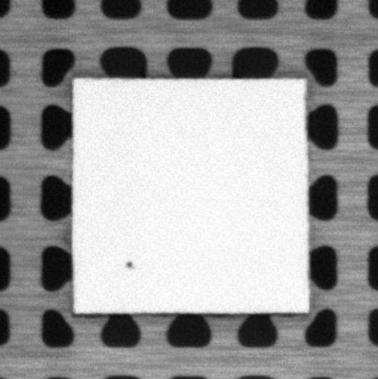DIE_INK: (123, 259, 134, 271)
